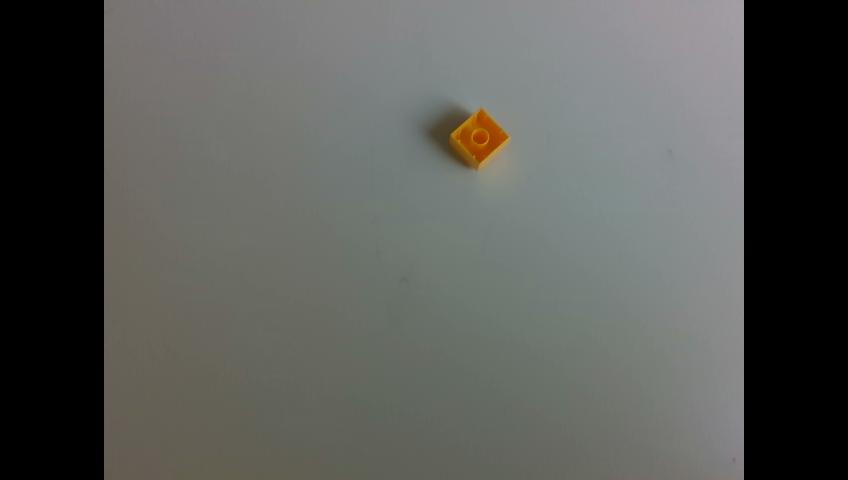2x2_yellow: (448, 107, 510, 168)
